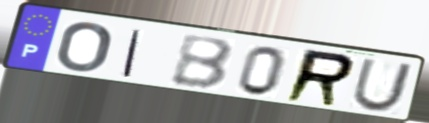0: (234, 45, 288, 98)
B: (168, 34, 237, 92)
I: (119, 27, 145, 80)
O: (54, 21, 115, 74)
R: (281, 47, 359, 110)
U: (349, 57, 417, 114)
